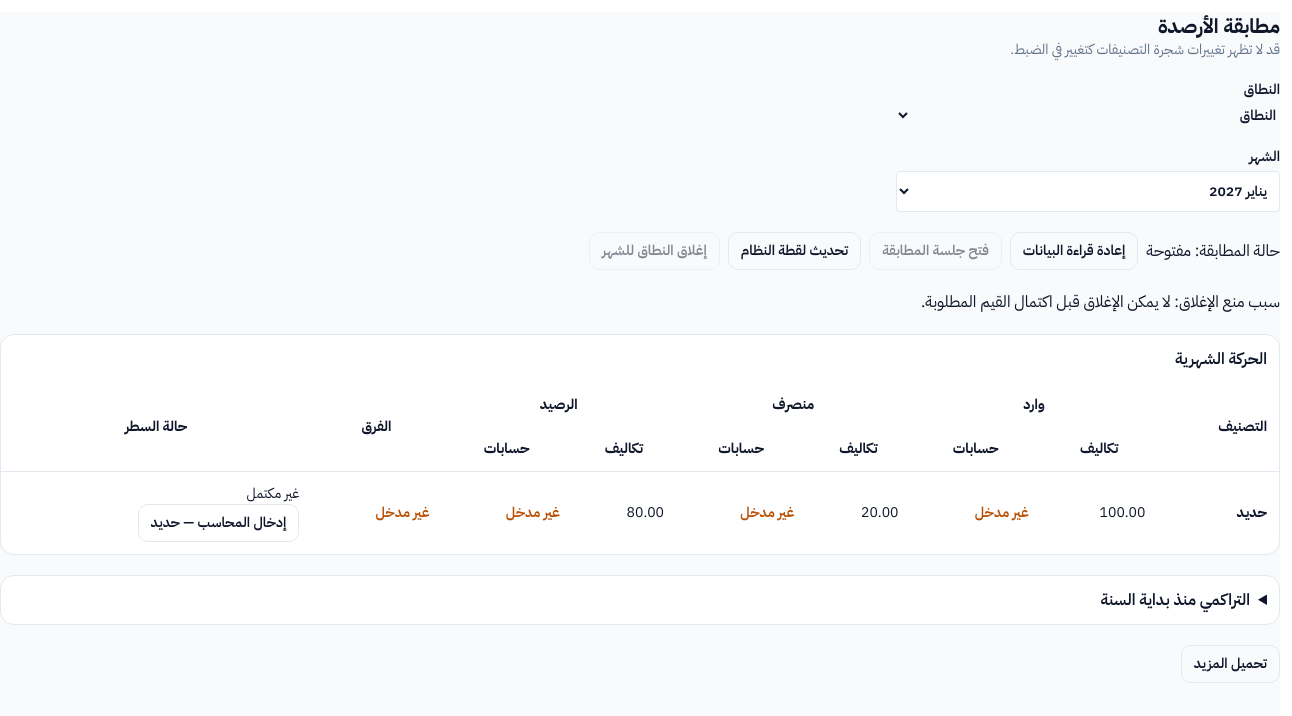
Test: v3 reconciliation › detects snapshot changes between paginated reads and blocks writes
Click the button "تحميل المزيد": (1230, 664) [1181,645,1280,683]
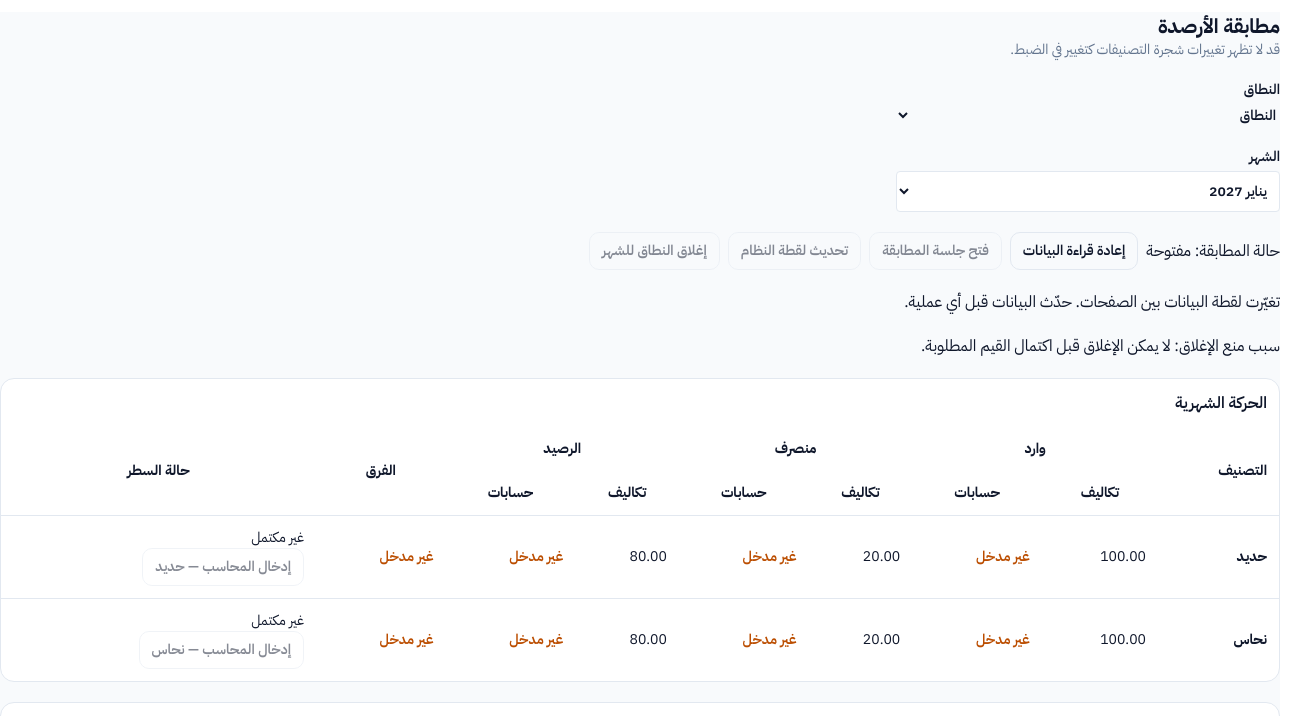
Expected: the button "إغلاق النطاق للشهر" is disabled, [589,232,720,270]
Now the text "تغيّرت لقطة البيانات بين الصفحات. حدّث البيانات قبل أي عملية." is shown, box [904,290,1280,314]
Now the button "إدخال المحاسب — حديد" is disabled, box [142,548,304,586]
